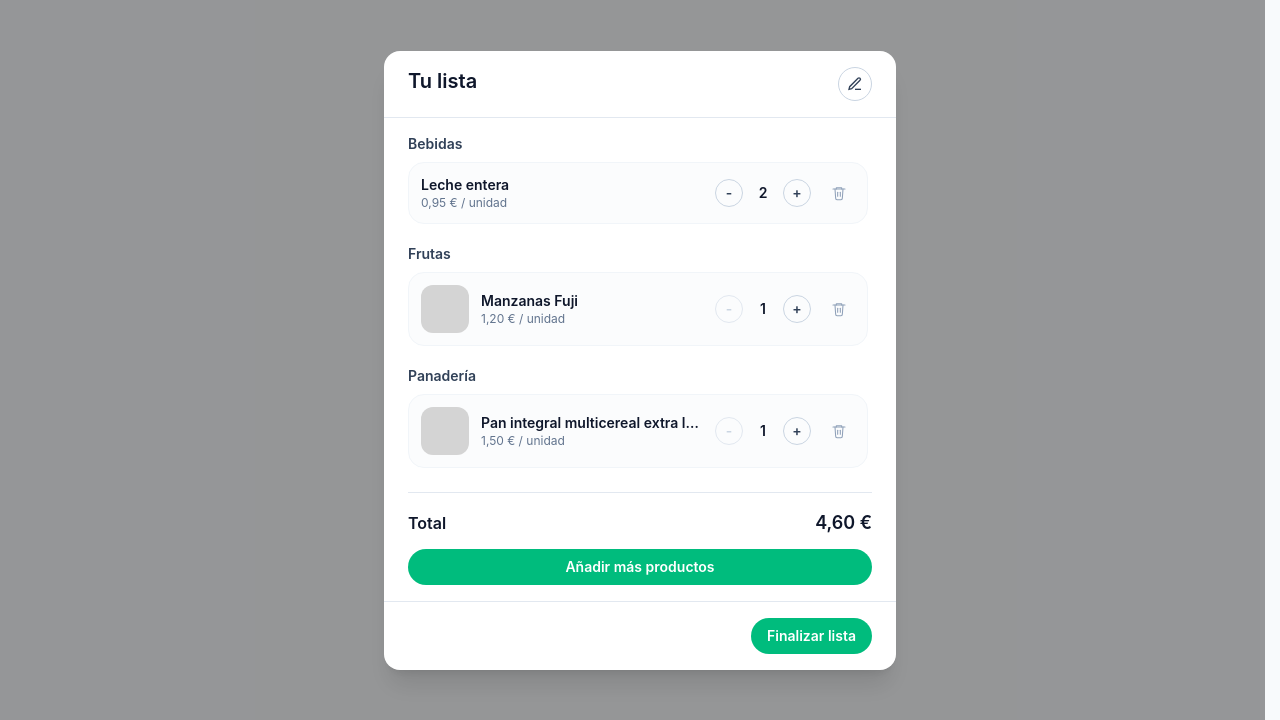
Test: ShoppingList › cierra el modal y navega al catálogo al finalizar lista
Click the button "Finalizar lista": {"x": 812, "y": 636} top-left (751, 618), bottom-right (872, 654)
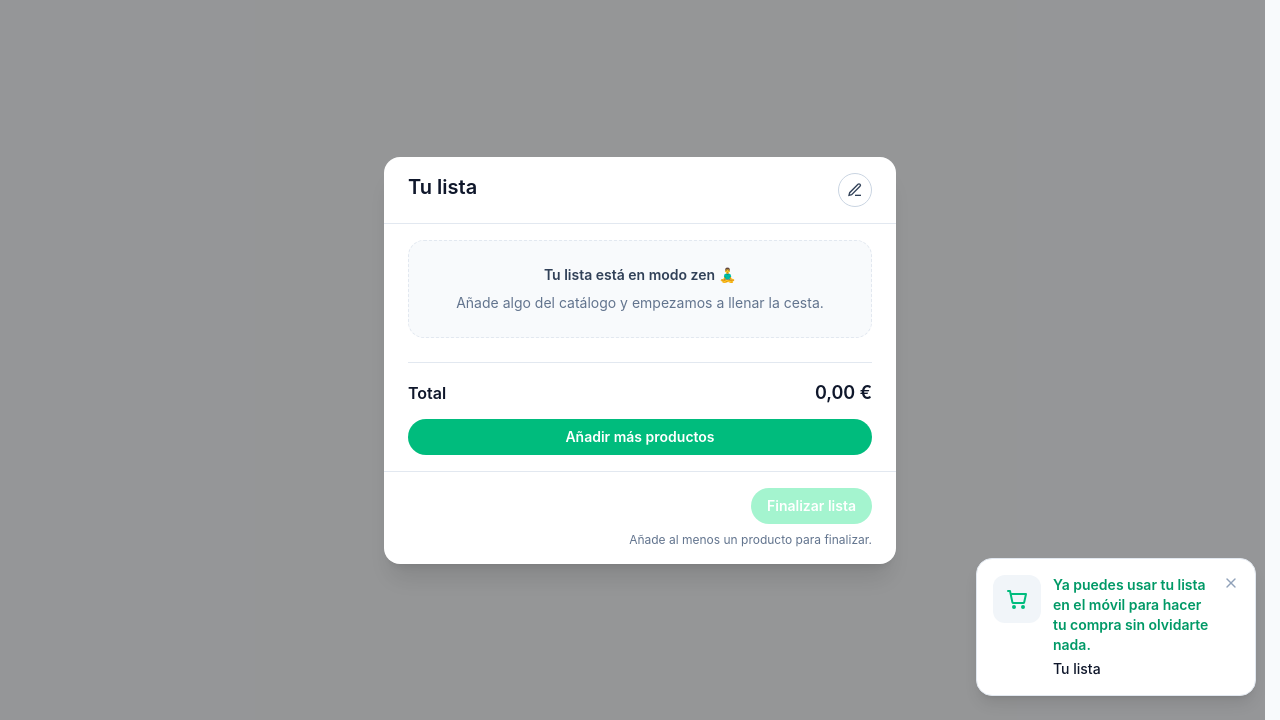
expect the heading "Tu lista" is shown: met, box top-left (408, 172), bottom-right (477, 200)
expect the text "Ya puedes usar tu lista en el móvil para hacer tu compra sin olvidarte nada." is shown: met, box top-left (1053, 575), bottom-right (1211, 655)
expect the text "Tu lista está en modo zen 🧘‍♂️" is shown: met, box top-left (544, 266), bottom-right (736, 282)
